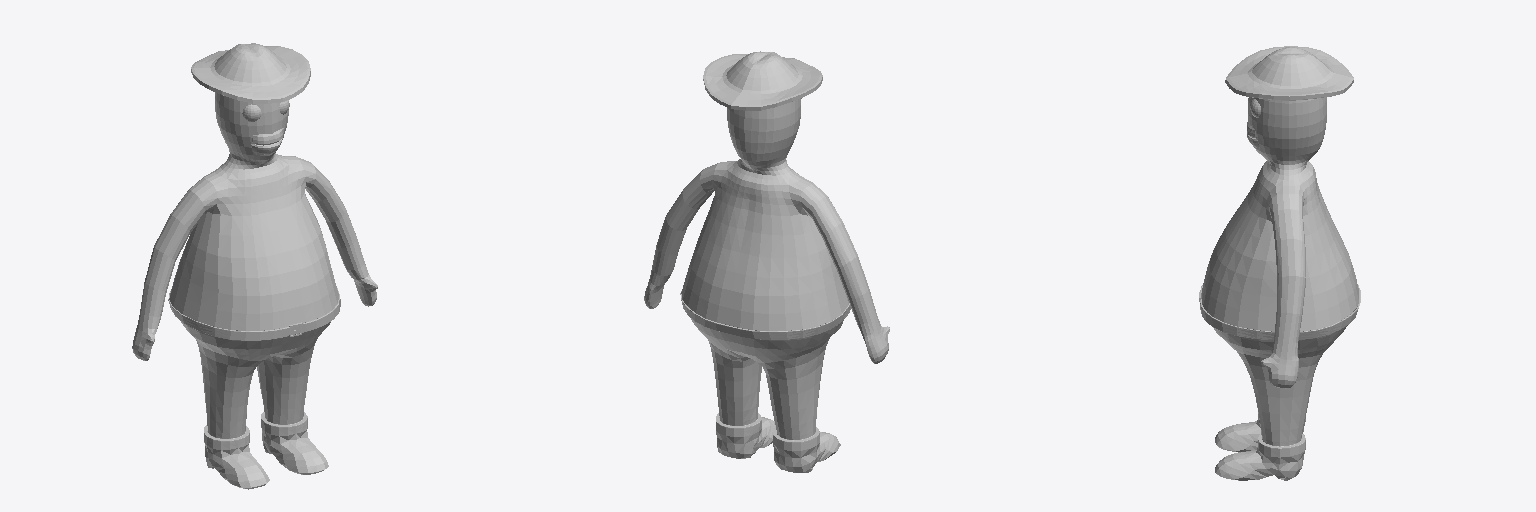
Rendered from Heikki.obj.
3 renders of one model, left to right at view 1: azimuth 30°, elevation 25°; view 2: azimuth 150°, elevation 25°; view 3: azimuth 270°, elevation 25°, orthographic.
Parts seen in each view (by area): view 1: Heikki_mesh_backup_Cube.002; view 2: Heikki_mesh_backup_Cube.002; view 3: Heikki_mesh_backup_Cube.002.
Part boxes in pixels (bbox=[...]): Heikki_mesh_backup_Cube.002: bbox=[132, 43, 377, 489]; Heikki_mesh_backup_Cube.002: bbox=[644, 51, 889, 472]; Heikki_mesh_backup_Cube.002: bbox=[1199, 46, 1360, 480].
Bounding box in the file's own units: 1.03 × 1.68 × 0.6017.